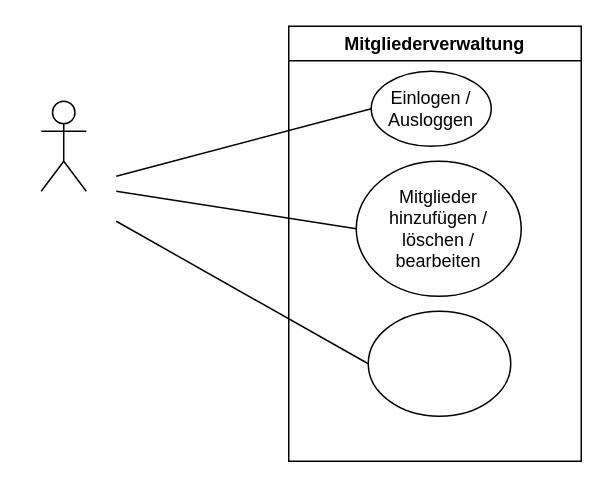
This 608x488 diagram has some shape labels left out. The centre of each missing label's shape, as x and y in pixels:
"eigene Attribute hinzufügen" belongs at point (439, 363).
"Verwalter" belongs at point (63, 145).
